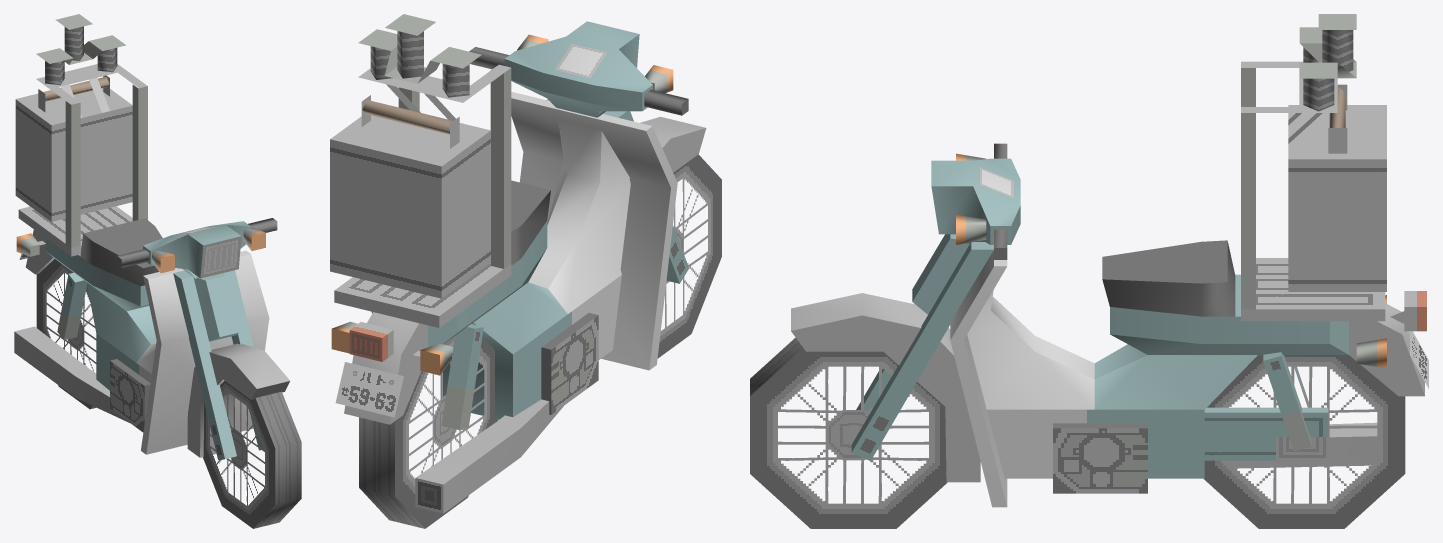
File: 0157_Food_Delivery_Bike.glb
3 views of the same model, side by side, from view 1: azimuth 30°, elevation 25°; view 2: azimuth 150°, elevation 25°; view 3: azimuth 270°, elevation 25° (orthographic). The views are drawn at different scales.
Parts seen in each view (by area): view 1: part_0, part_1, part_2; view 2: part_0, part_2, part_1; view 3: part_0, part_1, part_2.
Boxes of the visible parts, bbox=[...] form: part_0: bbox=[14, 14, 289, 460]; part_1: bbox=[203, 381, 301, 528]; part_2: bbox=[36, 259, 96, 409]; part_0: bbox=[330, 14, 706, 513]; part_2: bbox=[359, 336, 498, 528]; part_1: bbox=[657, 154, 721, 358]; part_0: bbox=[791, 14, 1428, 507]; part_1: bbox=[750, 337, 947, 528]; part_2: bbox=[1203, 355, 1405, 528].
Size of the model in its own units: 0.65 by 1.45 by 1.79.
3 materials, 3 textured.
